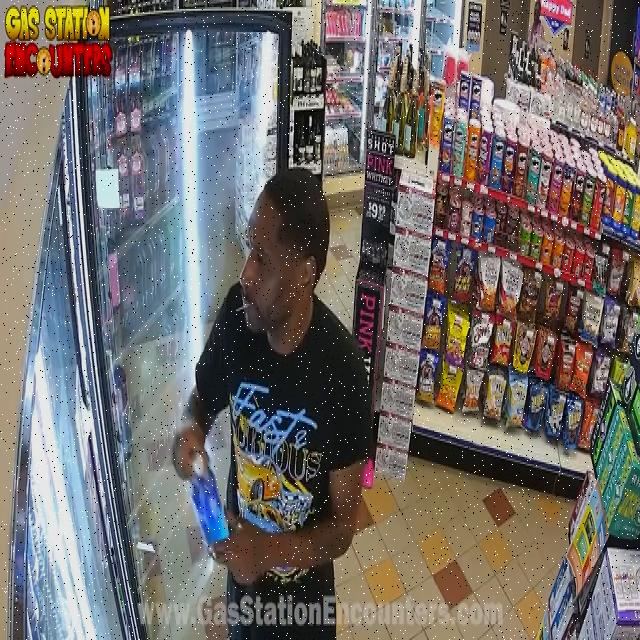article: (191, 453, 228, 548)
hands: (212, 462, 363, 583), (172, 388, 214, 478)
person: (173, 169, 371, 638)
